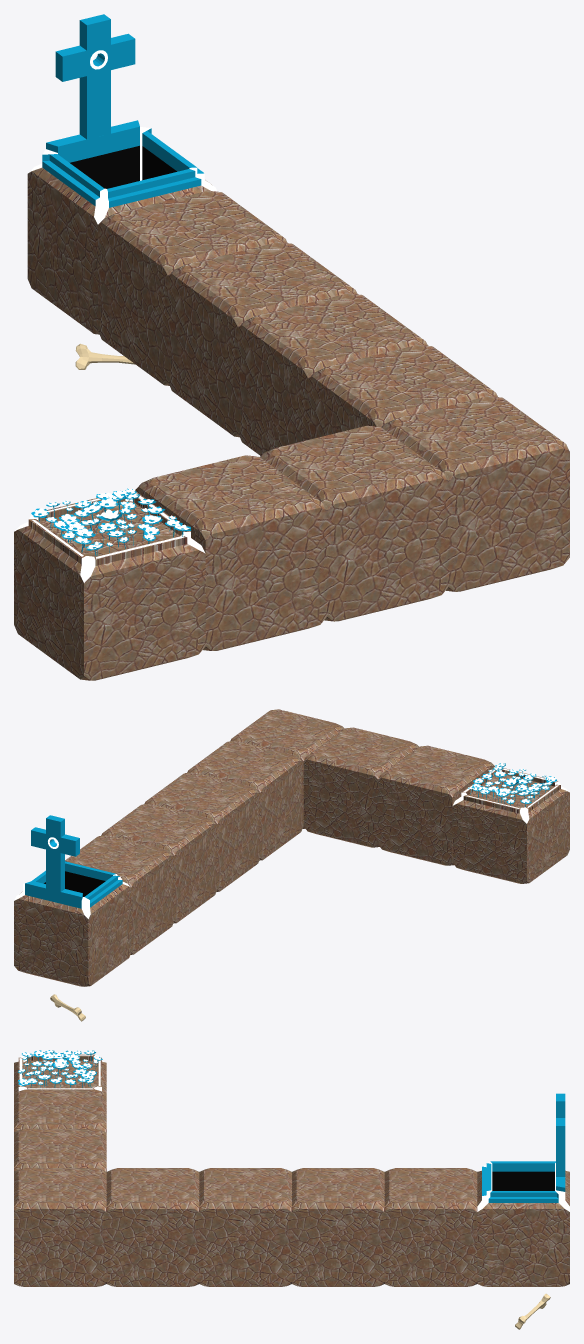
The model's file is P_LevelIntroductionArrow.fbx.
3 views of the same model, one above another, from view 1: azimuth 30°, elevation 25°; view 2: azimuth 150°, elevation 25°; view 3: azimuth 270°, elevation 25° (orthographic). The views are drawn at different scales.
Parts seen in each view (by area): view 1: SM_Ground, Spawner, Ground 4, Ground 5, Ground 6, Ground 1, Ground 2, Ground, Ground 3, Plane.002; view 2: Spawner, SM_Ground, Ground 4, Ground 5, Ground 1, Ground 3, Ground, Ground 2, Ground 6, Plane.002; view 3: Spawner, Ground 2, Ground 3, Ground, Ground 1, Ground 6, Ground 4, Ground 5, SM_Ground, Plane.002.
Part boxes in pixels (x1=…): SM_Ground: x1=14, y1=492, x2=205, y2=680; Spawner: x1=27, y1=14, x2=217, y2=334; Ground 4: x1=135, y1=455, x2=326, y2=650; Ground 5: x1=260, y1=425, x2=448, y2=621; Ground 6: x1=381, y1=396, x2=569, y2=591; Ground 1: x1=168, y1=242, x2=357, y2=437; Ground 2: x1=98, y1=190, x2=287, y2=385; Ground: x1=238, y1=293, x2=427, y2=455; Ground 3: x1=308, y1=344, x2=497, y2=439; Plane.002: x1=31, y1=488, x2=191, y2=555; Spawner: x1=14, y1=815, x2=131, y2=986; SM_Ground: x1=452, y1=768, x2=569, y2=883; Ground 4: x1=378, y1=745, x2=494, y2=865; Ground 5: x1=303, y1=727, x2=418, y2=847; Ground 1: x1=101, y1=803, x2=217, y2=923; Ground 3: x1=187, y1=740, x2=303, y2=860; Ground: x1=144, y1=772, x2=260, y2=891; Ground 2: x1=65, y1=835, x2=174, y2=954; Ground 6: x1=230, y1=709, x2=344, y2=828; Plane.002: x1=468, y1=763, x2=556, y2=806; Spawner: x1=477, y1=1093, x2=569, y2=1286; Ground 2: x1=384, y1=1168, x2=477, y2=1286; Ground 3: x1=106, y1=1168, x2=199, y2=1286; Ground: x1=199, y1=1168, x2=291, y2=1286; Ground 1: x1=292, y1=1168, x2=384, y2=1286; Ground 6: x1=14, y1=1168, x2=106, y2=1286; Ground 4: x1=14, y1=1089, x2=106, y2=1132; Ground 5: x1=14, y1=1128, x2=106, y2=1171; SM_Ground: x1=14, y1=1054, x2=106, y2=1093; Plane.002: x1=18, y1=1050, x2=102, y2=1087.
Bounding box in the file's own units: 400 × 266 × 600.
5 materials, 1 textured.
